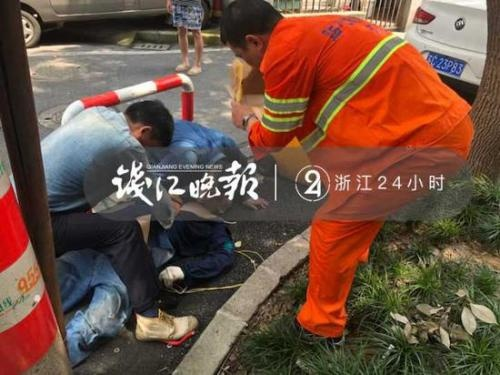falling: (135, 110, 266, 302)
